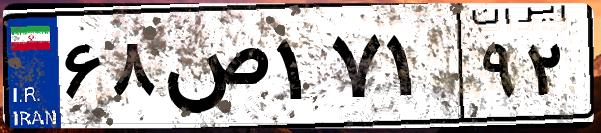1: (270, 28, 330, 110), (385, 28, 445, 110)
2: (525, 38, 570, 115)
6: (57, 26, 110, 100)
7: (330, 28, 385, 110)
8: (110, 28, 158, 98)
9: (475, 38, 525, 113)
ص: (158, 20, 270, 120)
